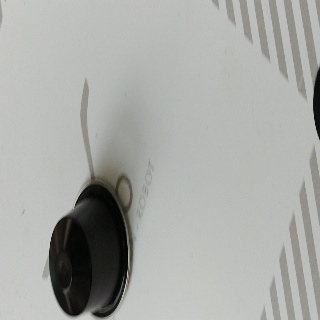capsule_10: (48, 178, 130, 320)
